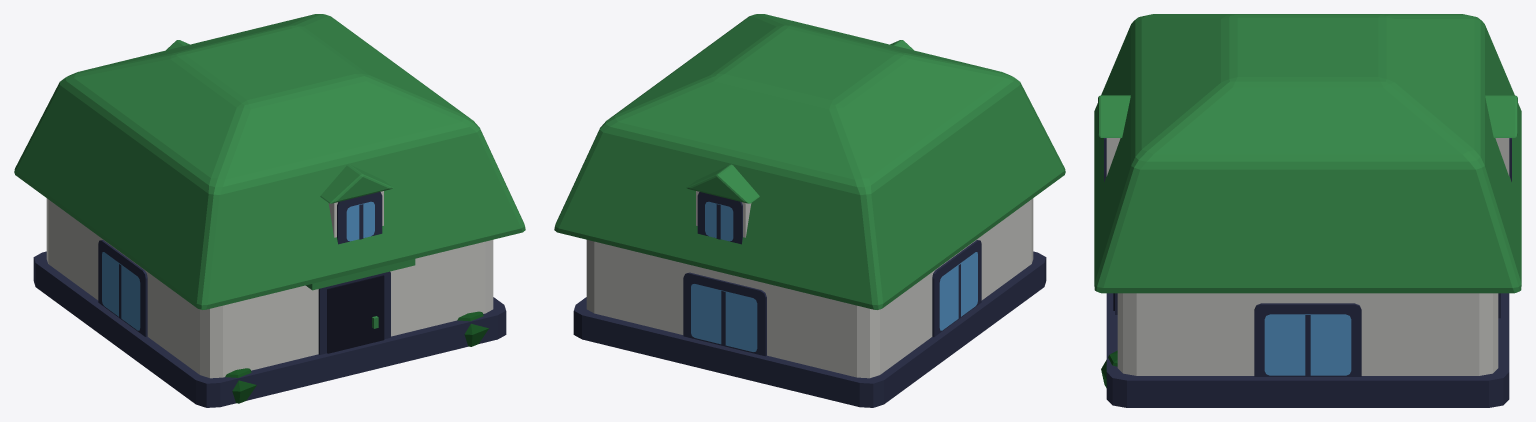
The model's file is house-1x1-1f-mansard-a.glb.
The picture shows the model from 3 angles, left to right: view 1: azimuth 30°, elevation 25°; view 2: azimuth 150°, elevation 25°; view 3: azimuth 270°, elevation 25°; orthographic projection. The views are drawn at different scales.
Parts seen in each view (by area): view 1: house-1x1-1f-mansard-a; view 2: house-1x1-1f-mansard-a; view 3: house-1x1-1f-mansard-a.
Boxes of the visible parts, bbox=[...] form: house-1x1-1f-mansard-a: bbox=[14, 14, 525, 407]; house-1x1-1f-mansard-a: bbox=[554, 14, 1065, 407]; house-1x1-1f-mansard-a: bbox=[1094, 14, 1521, 407].
Size of the model in its own units: 0.9876 by 0.7026 by 0.9876.
Materials: 1 (1 with a texture image).
